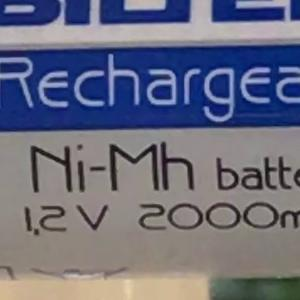NIMH: (21, 102, 225, 203)
